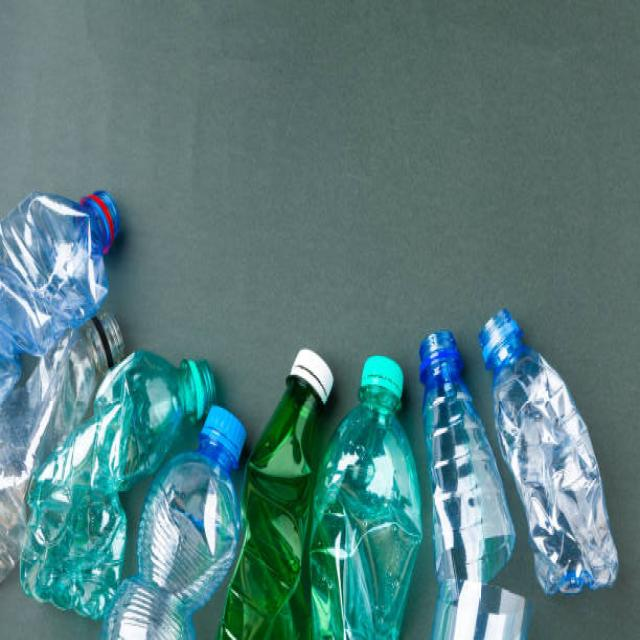plastic: (148, 366, 606, 584), (24, 256, 122, 557)
